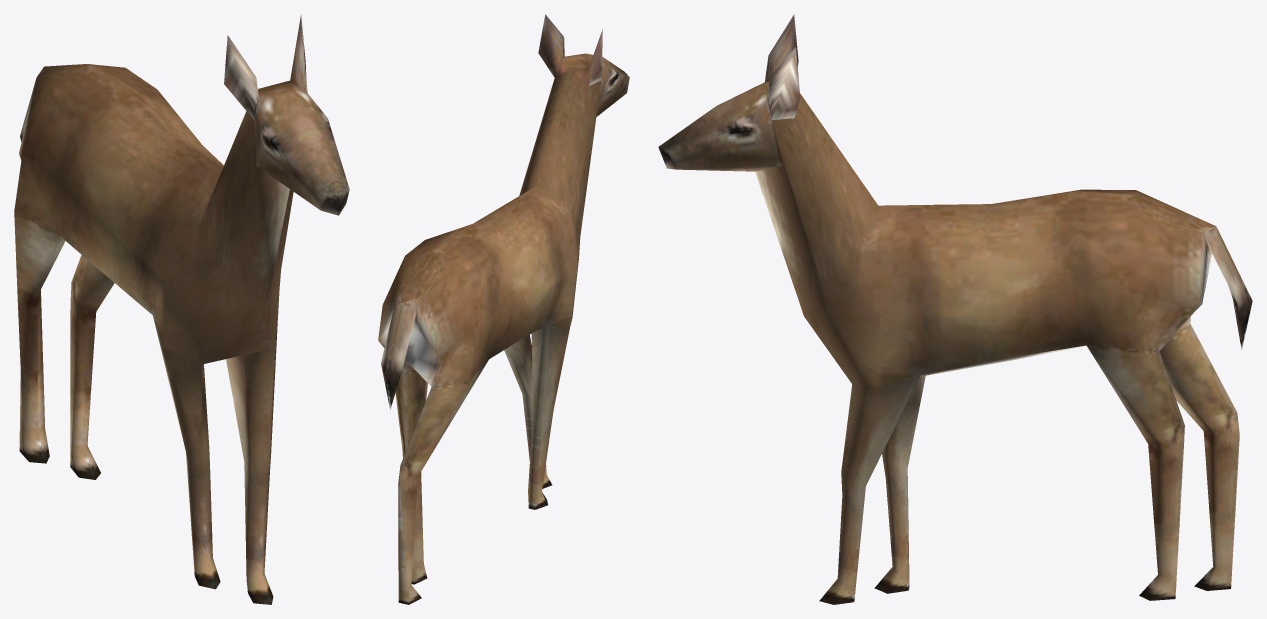
File: deer_mesh_works.dae
3 views of the same model, side by side, from view 1: azimuth 30°, elevation 25°; view 2: azimuth 150°, elevation 25°; view 3: azimuth 270°, elevation 25° (orthographic). The views are drawn at different scales.
Parts seen in each view (by area): view 1: deer01; view 2: deer01; view 3: deer01.
Boxes of the visible parts, <box> form: deer01: <box>14,15,349,604</box>; deer01: <box>378,14,629,604</box>; deer01: <box>658,14,1252,604</box>.
Size of the model in its own units: 25.04 by 112 by 117.
